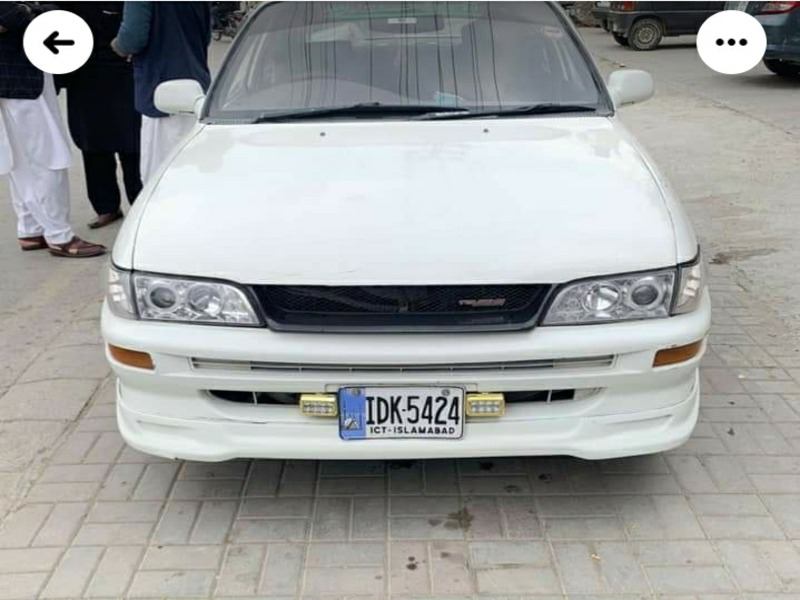License Plate: (332, 380, 469, 444)
